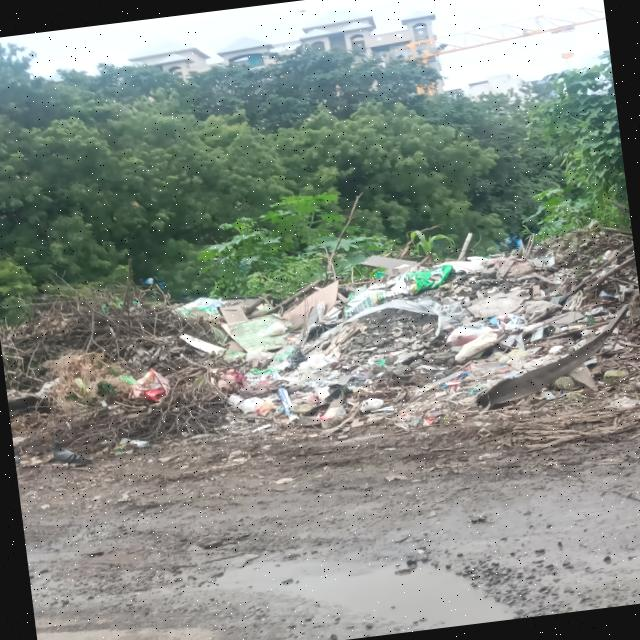garbage: (177, 236, 640, 461), (0, 282, 177, 461)
